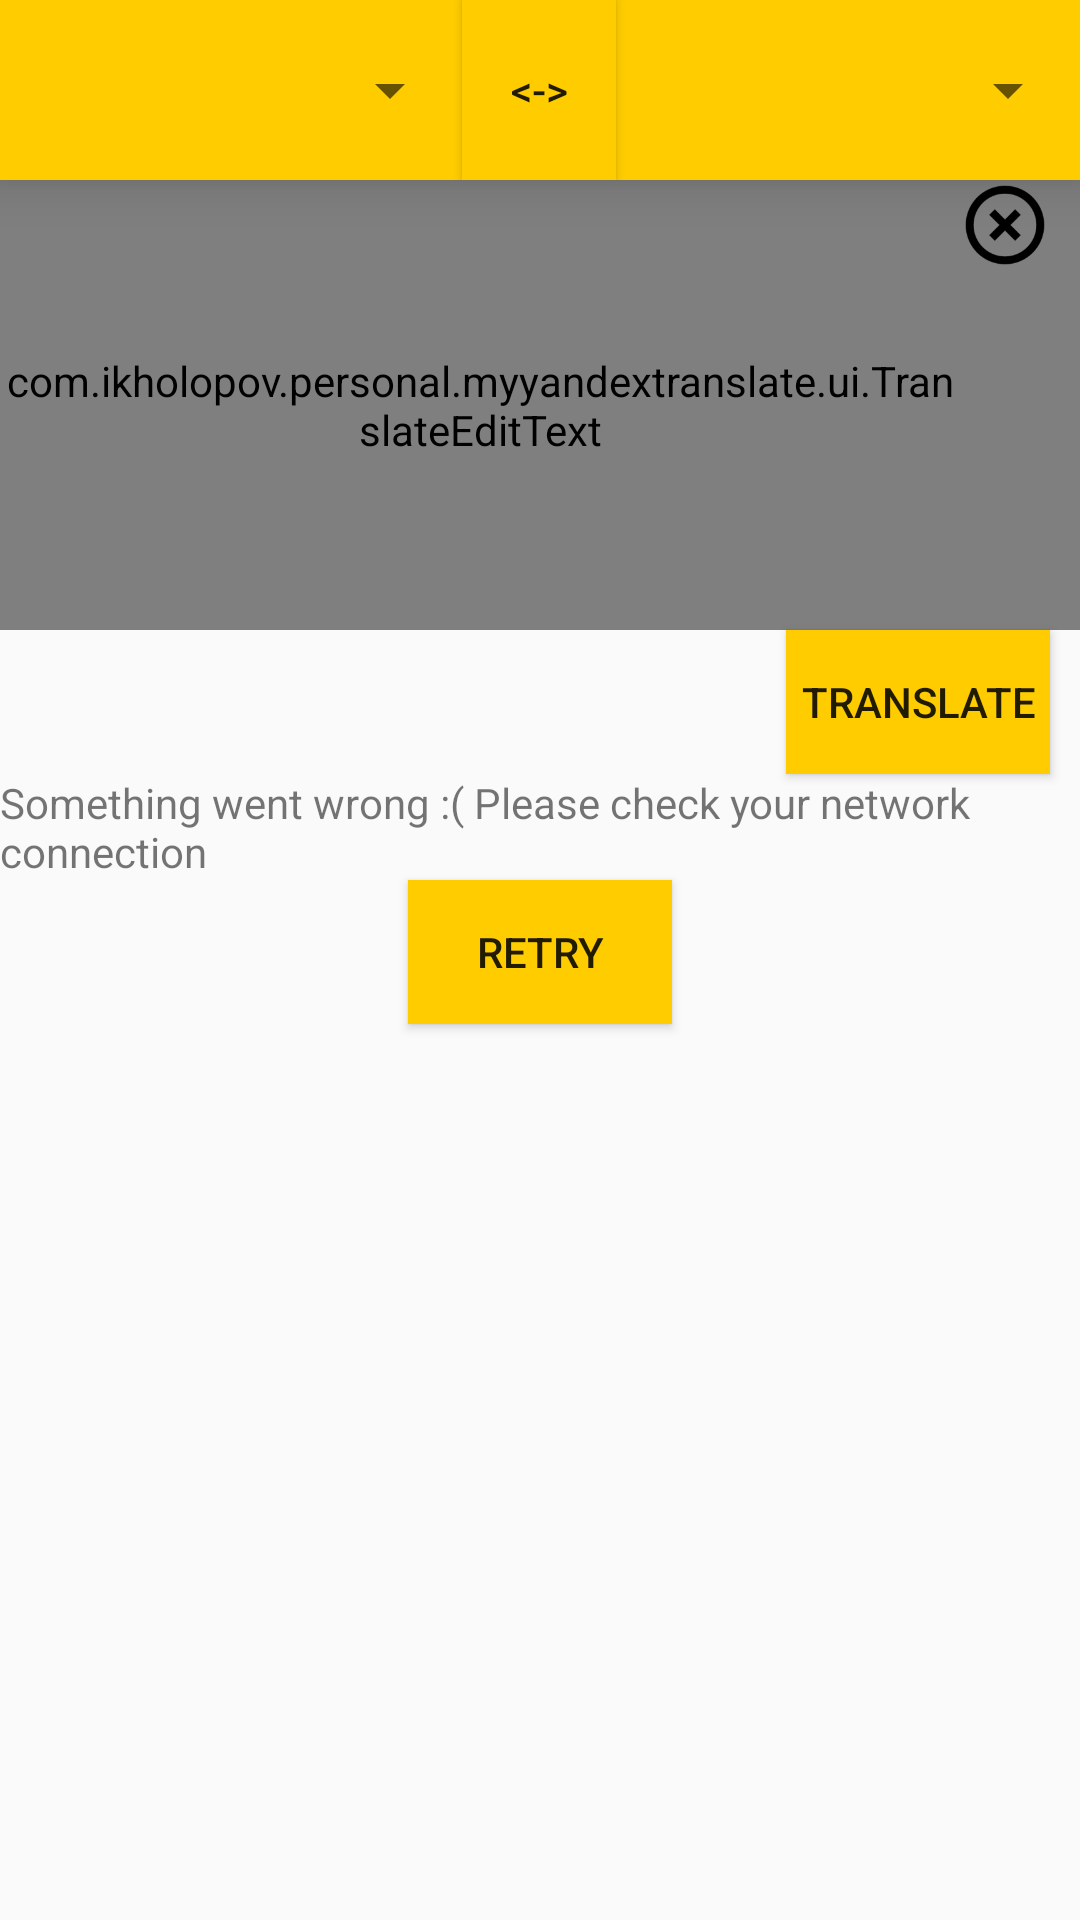

Icon bounding boxes for this 1080px×1920px phone screenshot, format (x1, y1, x2, y2):
clear: (965, 185, 1045, 265)
